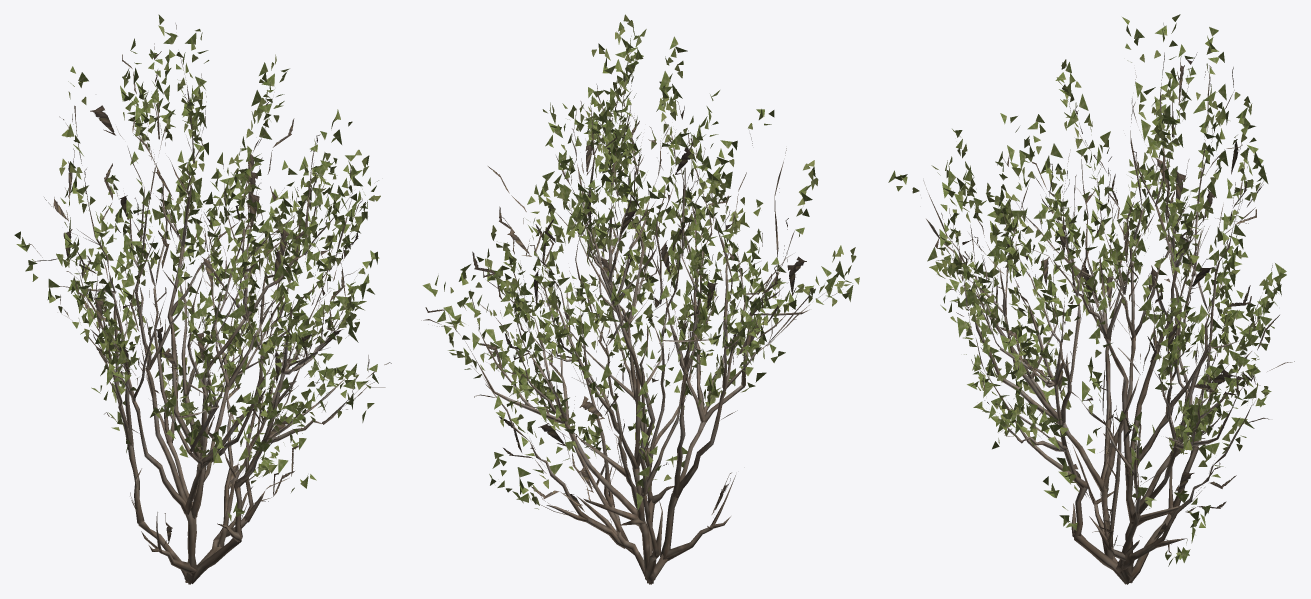
File: tree_searsia_lucida_young.glb
3 views of the same model, side by side, from view 1: azimuth 30°, elevation 25°; view 2: azimuth 150°, elevation 25°; view 3: azimuth 270°, elevation 25° (orthographic). The views are drawn at different scales.
Parts seen in each view (by area): view 1: tree_searsia_lucida_young; view 2: tree_searsia_lucida_young; view 3: tree_searsia_lucida_young.
Part boxes in pixels (x1,y1,x2,y2): tree_searsia_lucida_young: (14, 14, 391, 584); tree_searsia_lucida_young: (421, 14, 859, 584); tree_searsia_lucida_young: (888, 14, 1294, 584).
Size of what is drawn, in the model's own units: 4.19 by 7 by 4.54.
Materials: 3 (3 with a texture image).
